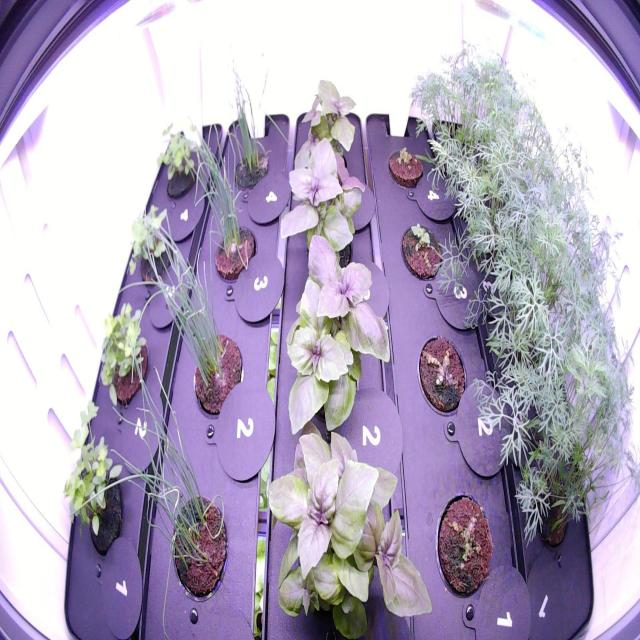germination: (434, 487, 496, 603), (416, 330, 471, 424), (396, 216, 445, 285), (382, 138, 427, 194)
